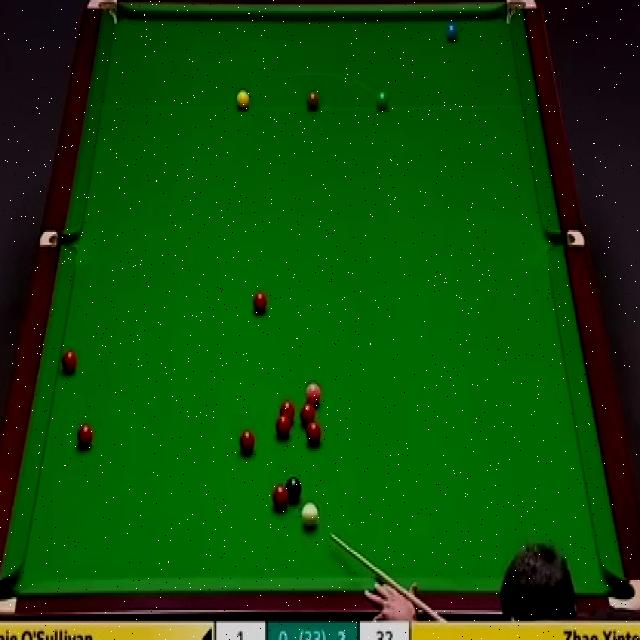black-ball: (286, 477, 304, 502)
blue-ball: (446, 22, 461, 41)
brown-ball: (306, 90, 321, 112)
green-ball: (375, 90, 390, 113)
pink-ball: (304, 379, 322, 406)
red-ball: (272, 482, 290, 513), (61, 350, 80, 376), (239, 429, 256, 457), (76, 423, 94, 449), (305, 420, 322, 446), (298, 402, 315, 426), (252, 291, 268, 316), (280, 400, 295, 424), (276, 416, 291, 438)
white-ball: (300, 502, 320, 528)
yellow-ball: (234, 90, 250, 112)
